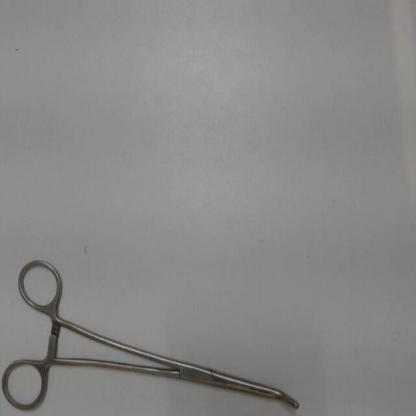Lahey Forceps: (0, 253, 304, 413)
